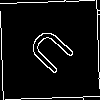U: (25, 25, 84, 83)
